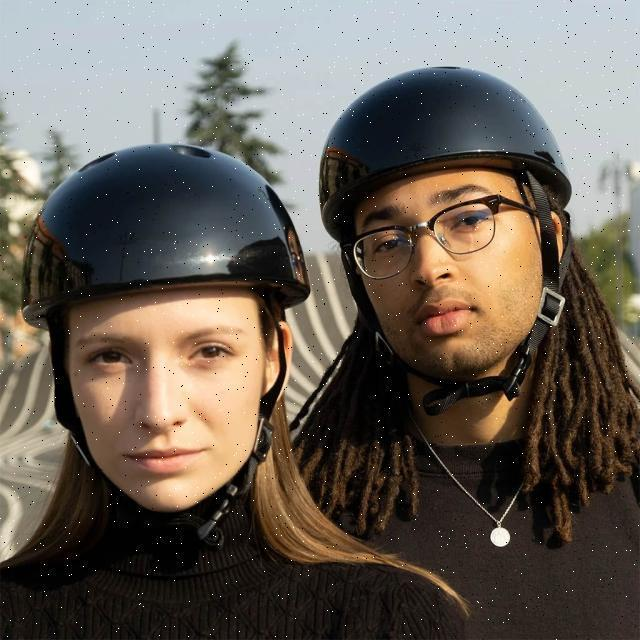helmet: (26, 142, 314, 548), (322, 62, 578, 420)
